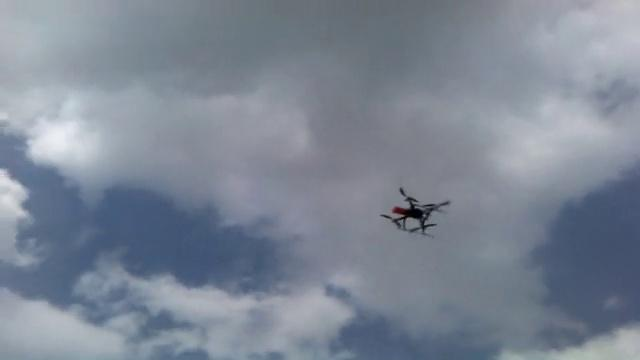drone: (377, 185, 451, 237)
